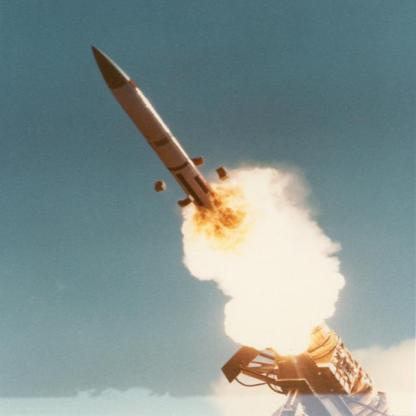MIL_TBM: (92, 45, 220, 215)
